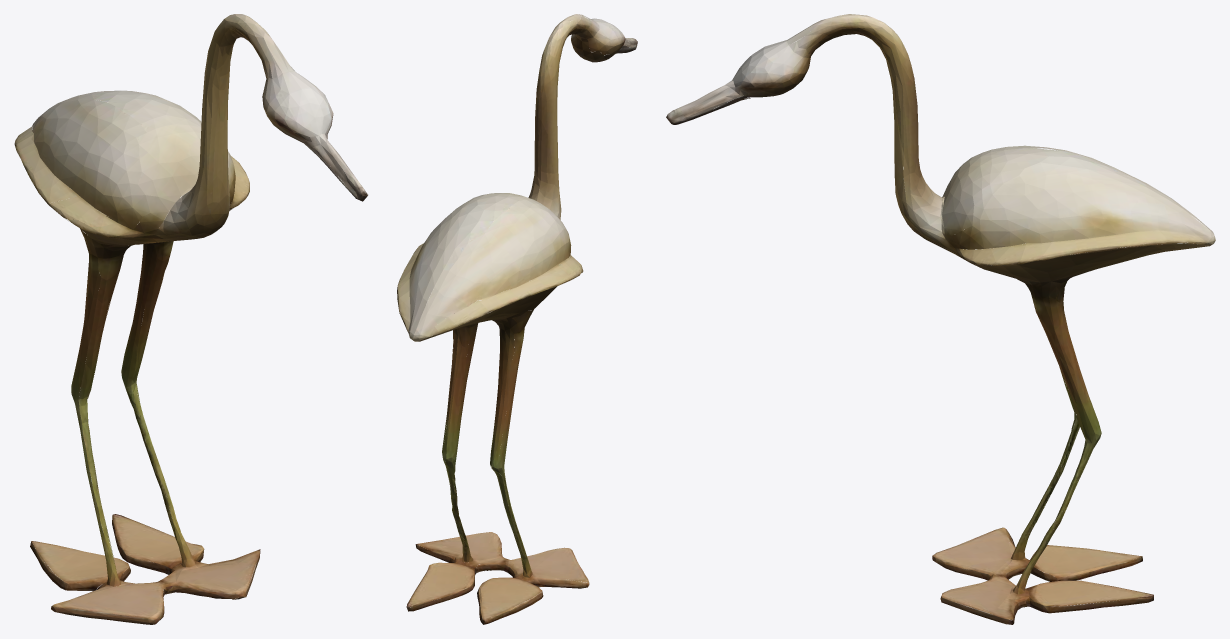
File: x-heron-or.glb
The picture shows the model from 3 angles, left to right: view 1: azimuth 30°, elevation 25°; view 2: azimuth 150°, elevation 25°; view 3: azimuth 270°, elevation 25°; orthographic projection. The views are drawn at different scales.
Visible parts, largest first — view 1: geometry_0; view 2: geometry_0; view 3: geometry_0.
Boxes of the visible parts, bbox=[...] form: geometry_0: bbox=[14, 14, 367, 624]; geometry_0: bbox=[397, 14, 637, 624]; geometry_0: bbox=[666, 14, 1215, 624].
Size of the model in its own units: 0.3537 by 0.9993 by 0.871.
Materials: 1 (1 with a texture image).
